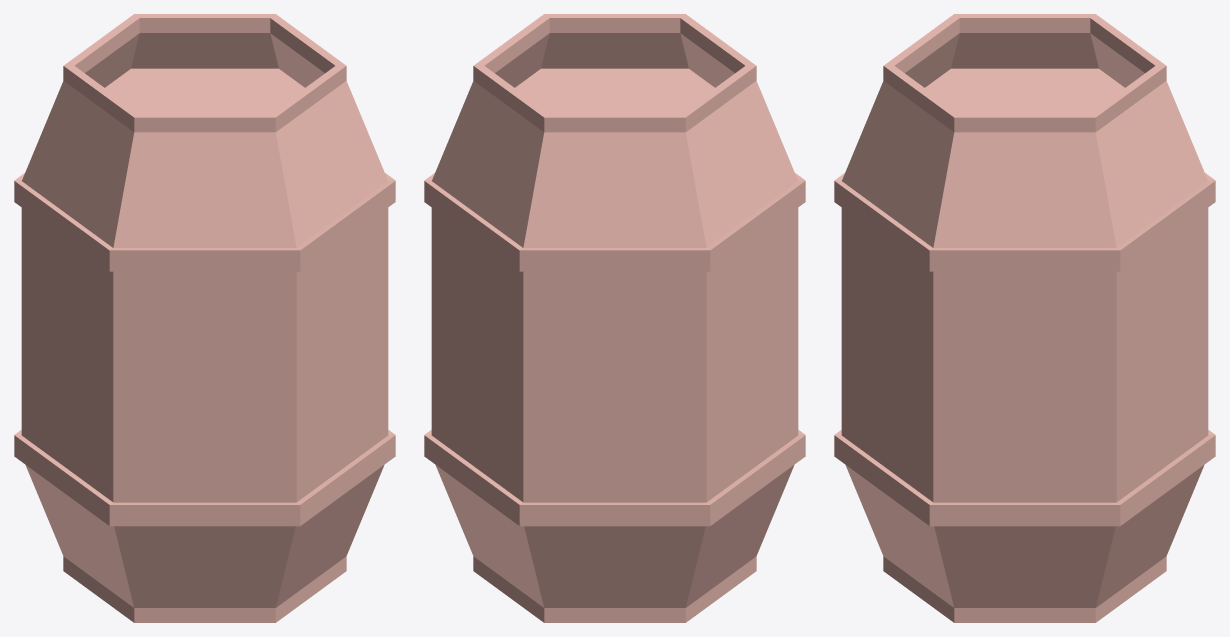
The model's file is Mega_Asset_s_Pack_Cylinder_039.FBX.
3 views of the same model, side by side, from view 1: azimuth 30°, elevation 25°; view 2: azimuth 150°, elevation 25°; view 3: azimuth 270°, elevation 25° (orthographic).
Parts seen in each view (by area): view 1: Mega_Asset_s_Pack_Cylinder_039; view 2: Mega_Asset_s_Pack_Cylinder_039; view 3: Mega_Asset_s_Pack_Cylinder_039.
Boxes of the visible parts, x1,y1,x2,y2 form: Mega_Asset_s_Pack_Cylinder_039: (14, 14, 395, 622); Mega_Asset_s_Pack_Cylinder_039: (424, 14, 805, 622); Mega_Asset_s_Pack_Cylinder_039: (834, 14, 1215, 622).
Size of what is drawn, in the model's own units: 108 by 124 by 182.
